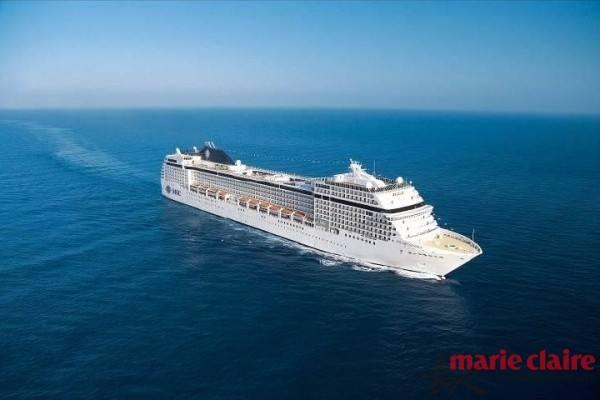youlun: (158, 141, 483, 280)
